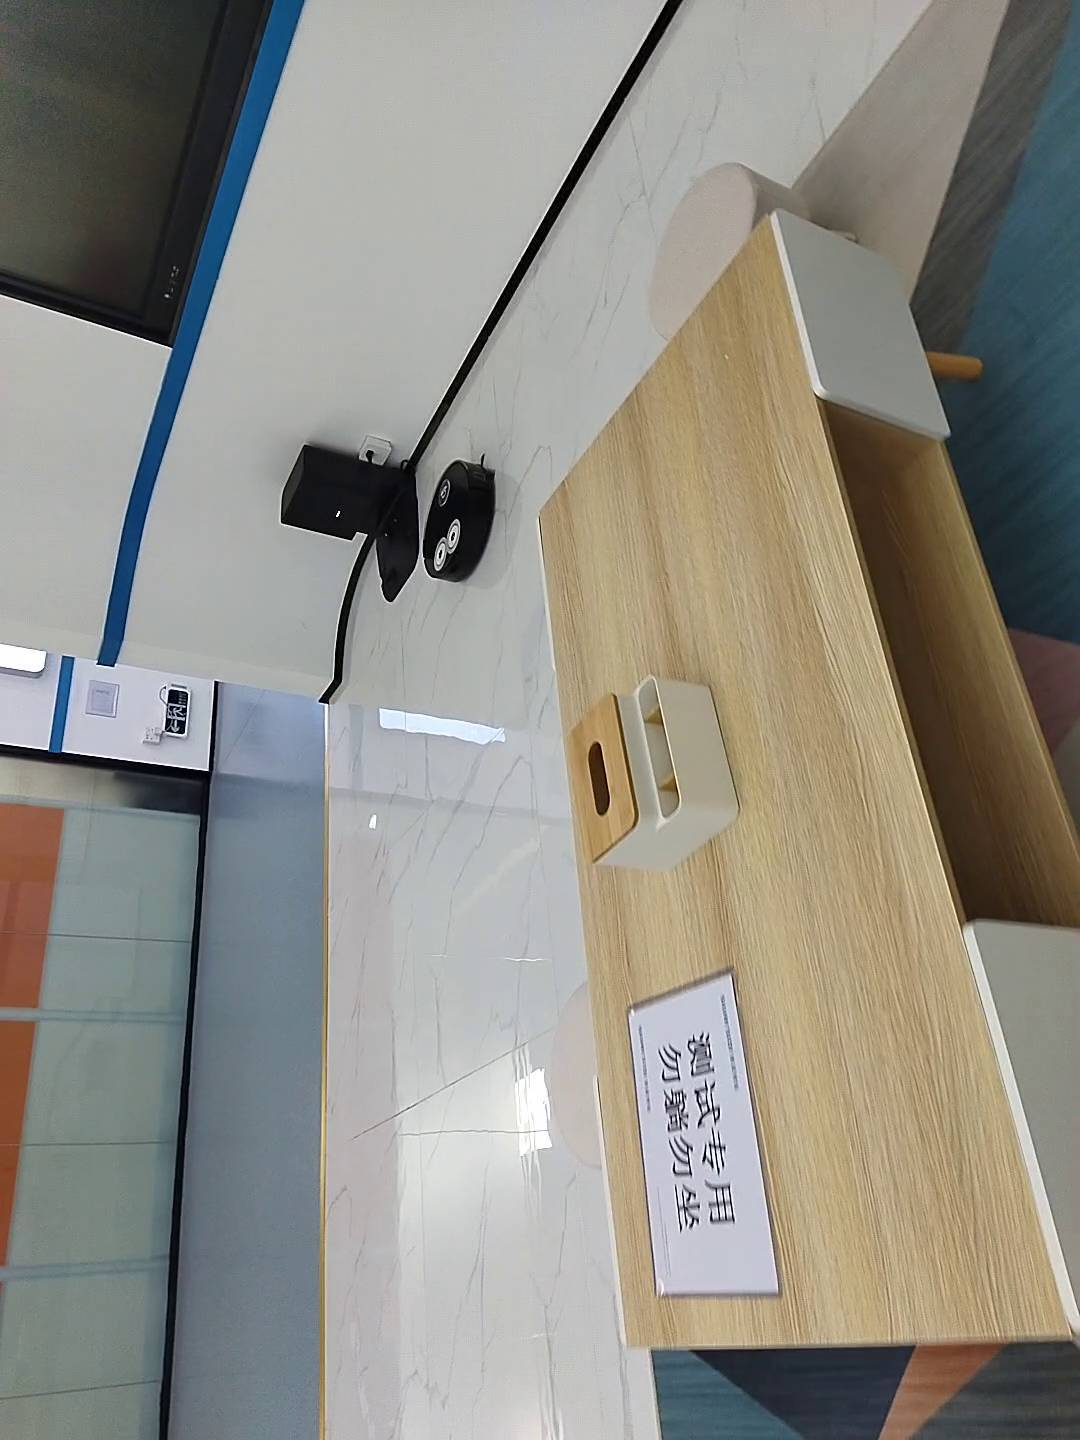dust collecting barrel: (278, 440, 423, 605)
